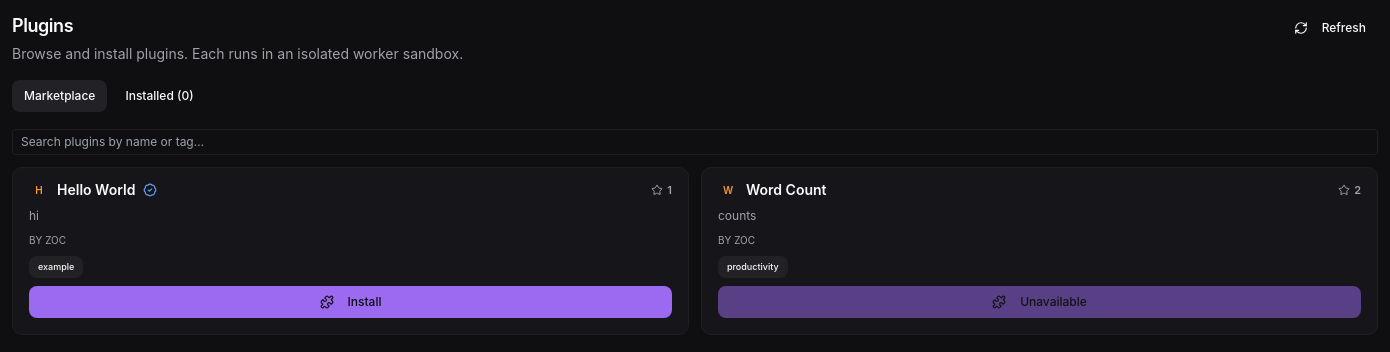
Test: renders the registry from the bundled fallback and filters live
Expected: the text "Hello World" is shown, [57,181,135,198]
Expected: the text "Word Count" is shown, [746,181,826,198]
Step 1. Type "product" into the field labelled "Search plugins" → (695, 142), box [12,129,1378,155]
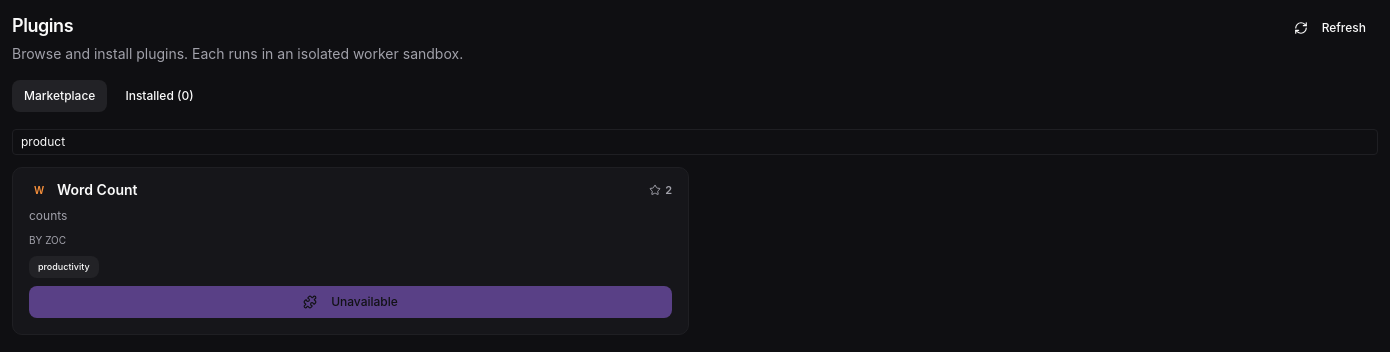
Expected: the text "Word Count" is shown, [57,181,138,198]
Now the text "Hello World" is gone
